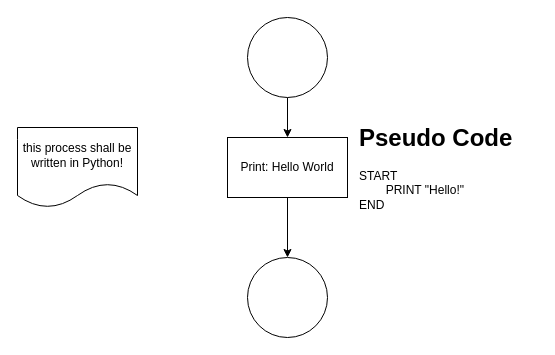
The diagram is 555 pixels wide and 355 high, and some of its shapes have lost their labels. The centre of each missing label's shape, as x and y in pixels:
End: pixel 287 297
Start: pixel 287 57
